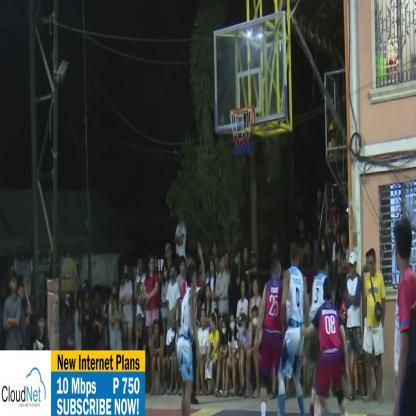rim: (225, 97, 255, 168)
